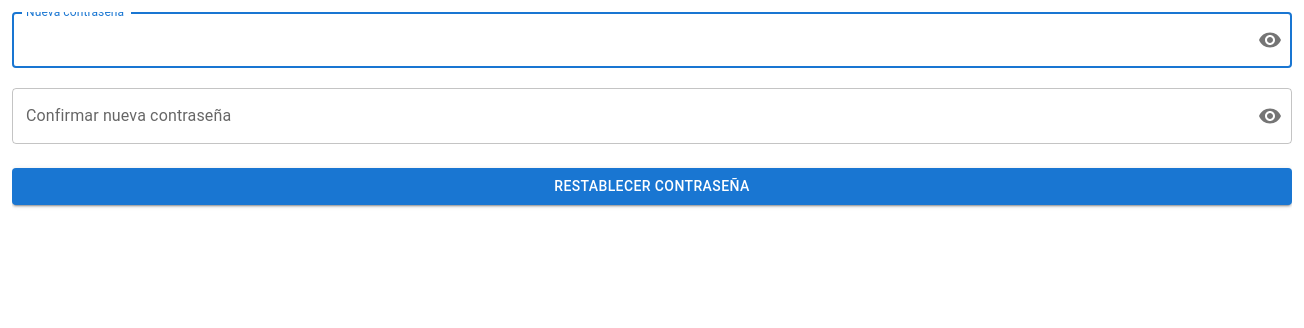
ResetPasswordForm › error handling - API errors › should show detail message when API returns detail field in error
The width and height of the screenshot is (1304, 328).
Type "NewPass123" into the password field labelled "Nueva contraseña".
click(627, 40); type("NewPass123")  # box [12,12,1242,68]
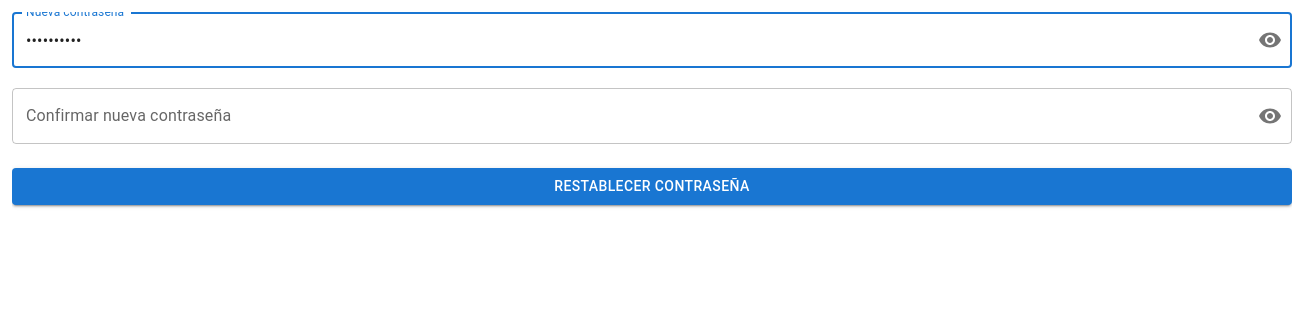
Type "NewPass123" into the password field labelled "Confirmar nueva contraseña".
click(627, 116); type("NewPass123")  # box [12,88,1242,144]
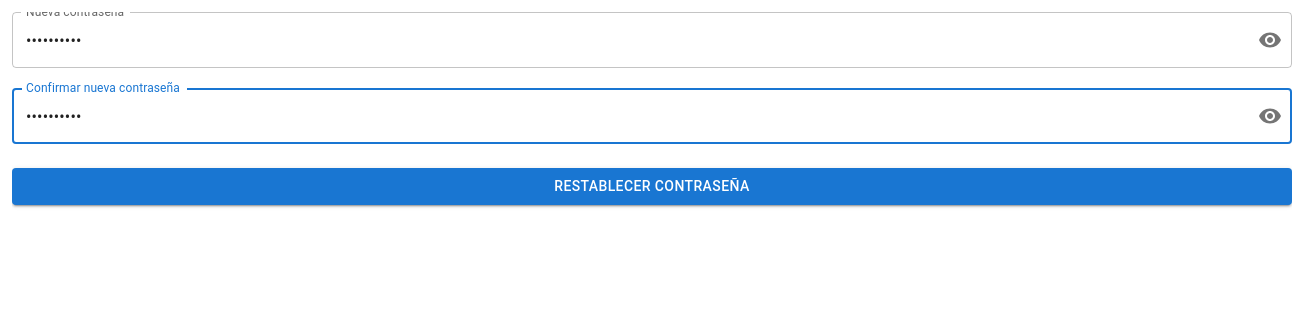
Click the button "Restablecer contraseña".
click(652, 186)  # box [12,168,1292,204]
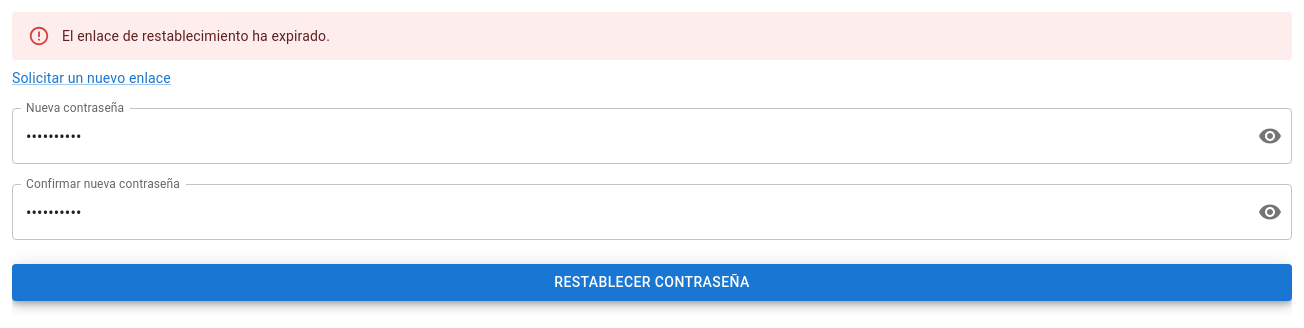
Now the text "El enlace de restablecimiento ha expirado." is shown, box [62,28,330,44]
